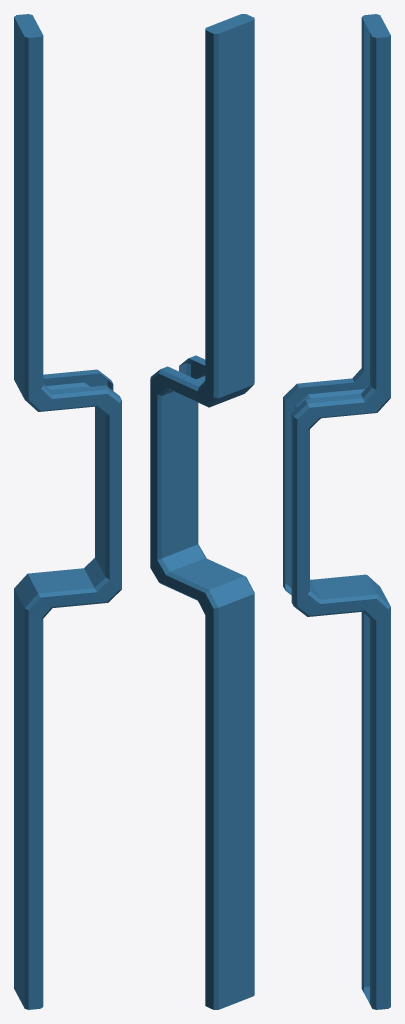
Rendered from closetLipLeft.fbx.
The picture shows the model from 3 angles, left to right: view 1: azimuth 90°, elevation 25°; view 2: azimuth 210°, elevation 25°; view 3: azimuth 270°, elevation 25°; orthographic projection.
Visible parts, largest first — view 1: doorlipleft; view 2: doorlipleft; view 3: doorlipleft.
Boxes of the visible parts, x1=… form: doorlipleft: x1=14, y1=14, x2=121, y2=1009; doorlipleft: x1=150, y1=14, x2=254, y2=1009; doorlipleft: x1=283, y1=14, x2=390, y2=1009.
Bounding box in the file's own units: 14.36 × 206 × 20.75.
